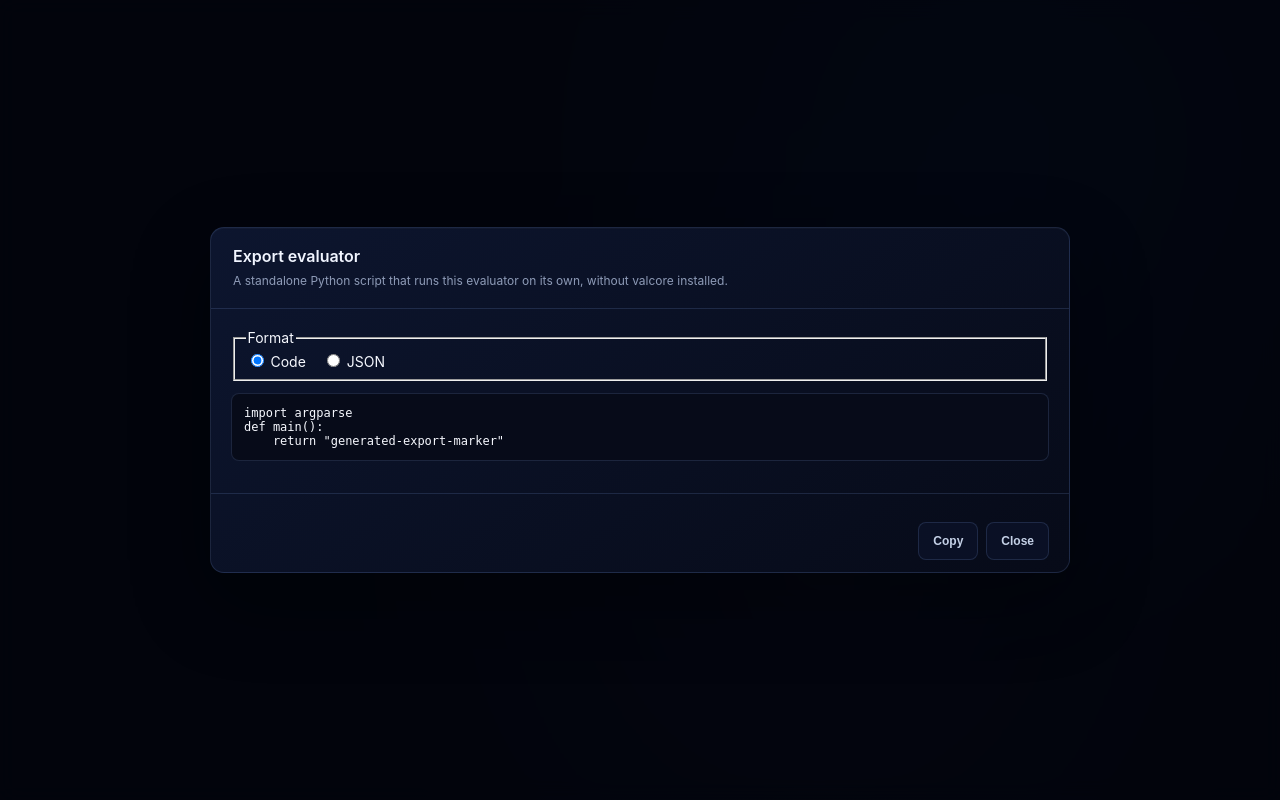
ExportModal › pretty-prints JSON file bodies for display
Expected: the text "import argparse def main(): return \"generated-export-marker\"" is shown, [231, 393, 1049, 461]
Click the radio button labelled "JSON": (333, 361) [327, 354, 340, 367]
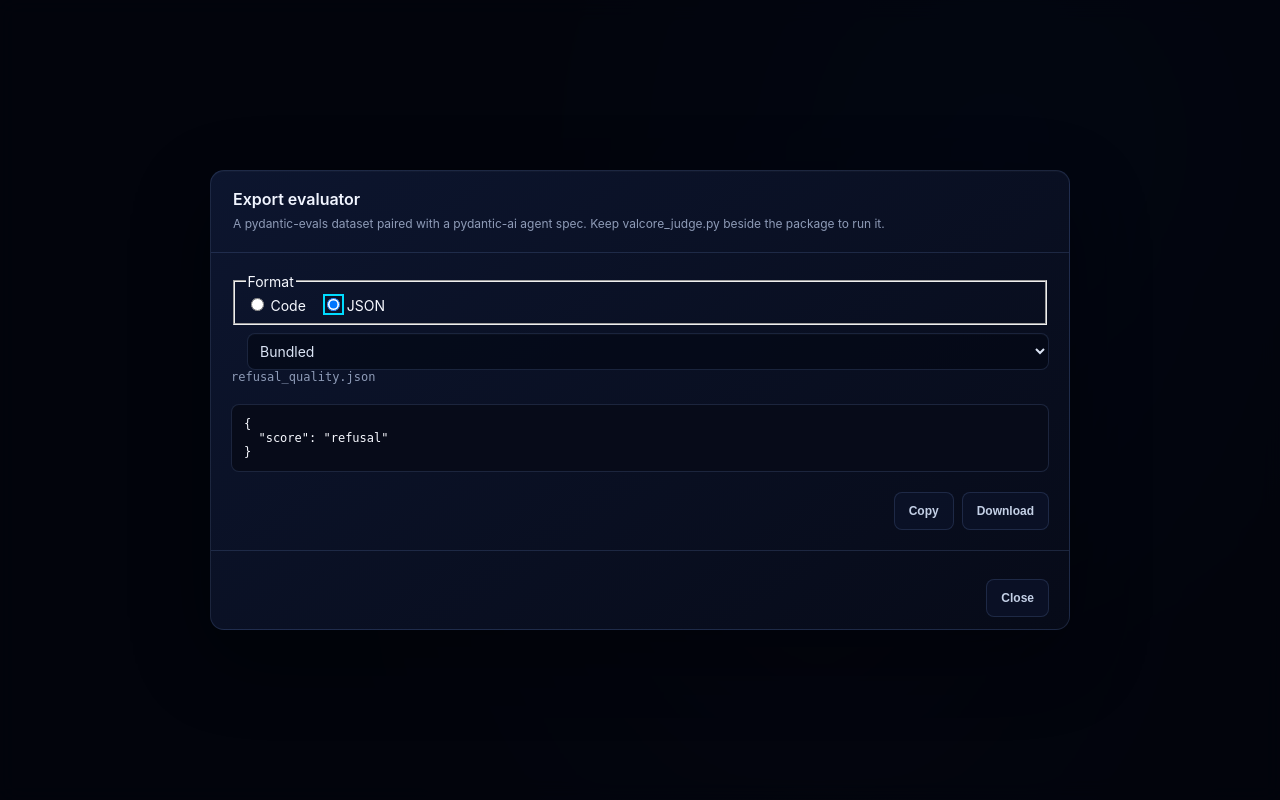
Now the text "{ \"score\": \"refusal\" }" is shown, box [231, 404, 1049, 472]
